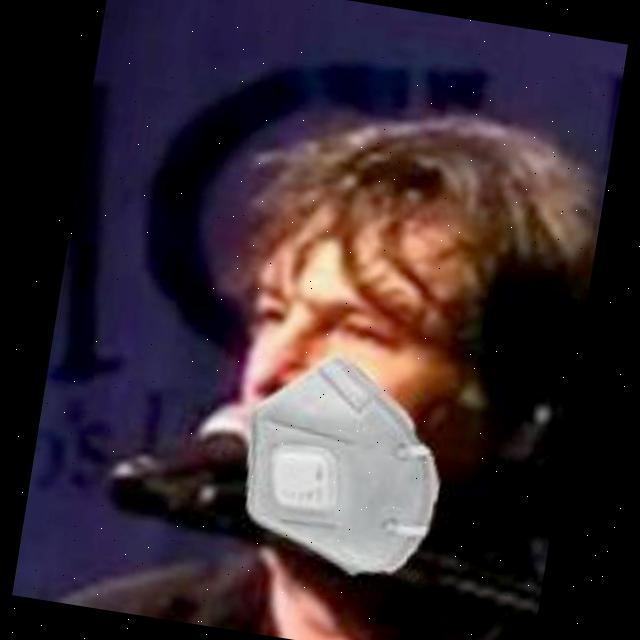suspicion: (142, 62, 600, 596)
